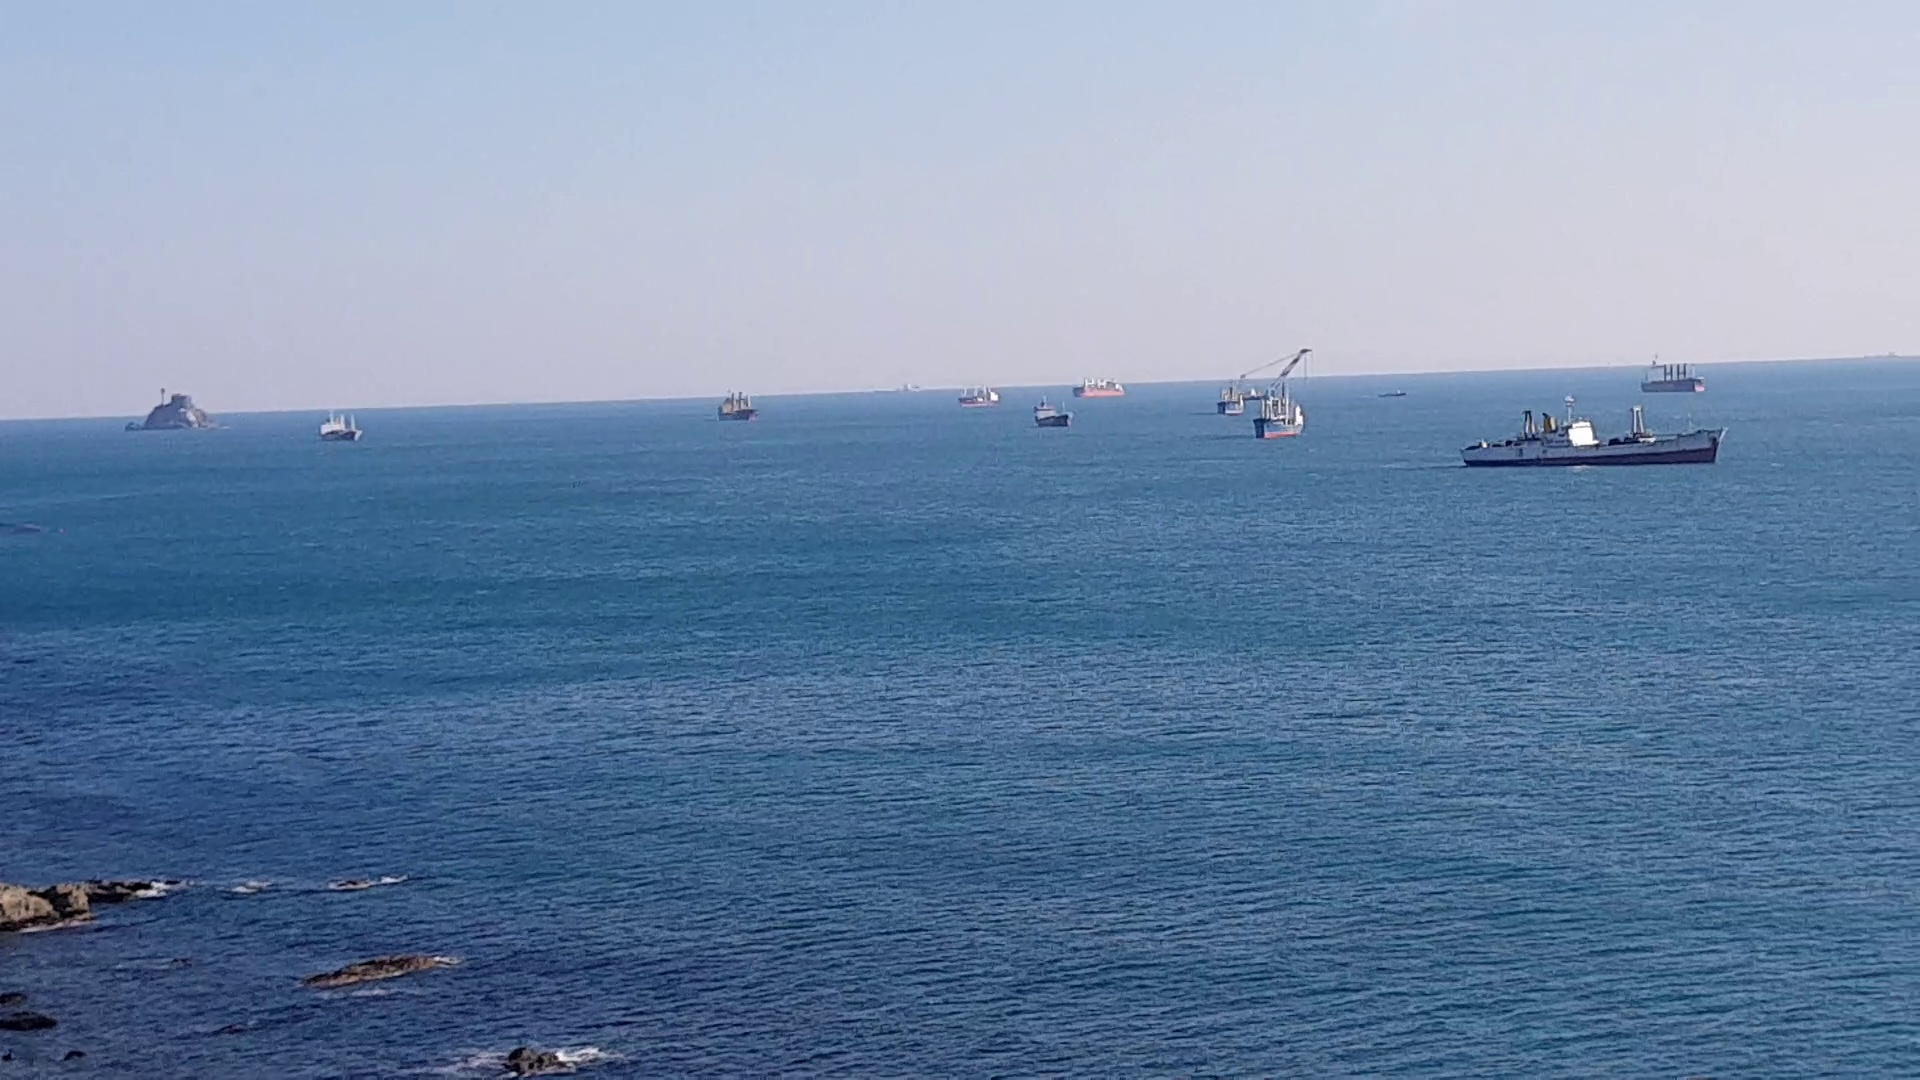Bulk_Carrier: (123, 402, 208, 429), (716, 400, 752, 419), (314, 422, 360, 436)
